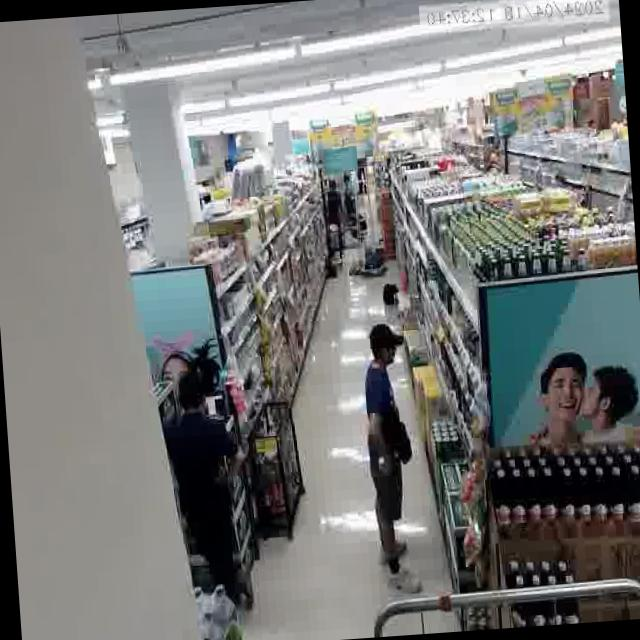shoplifting: (344, 308, 439, 602)
